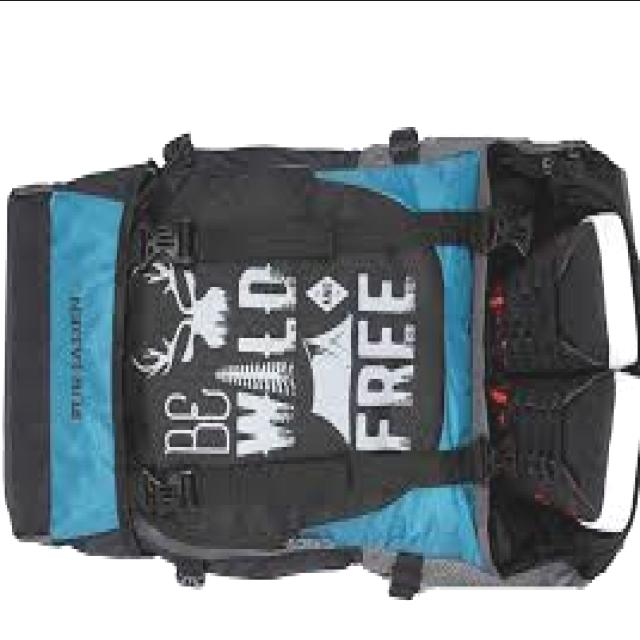backpack: (1, 127, 639, 600)
